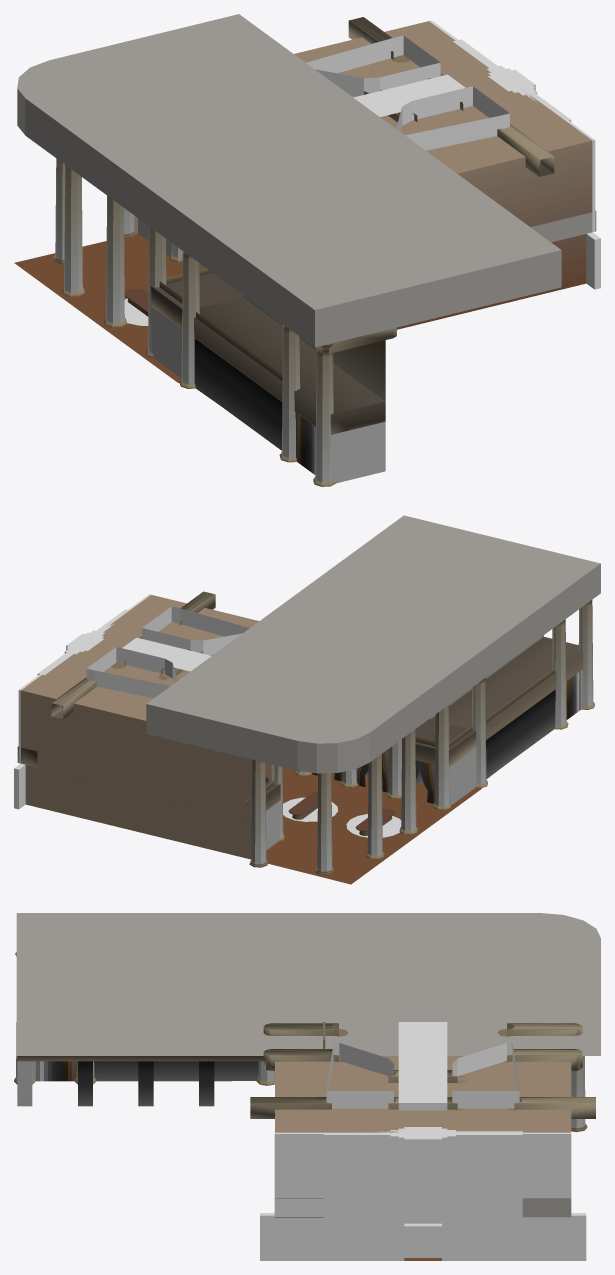
Rendered from LoungeArea.fbx.
The picture shows the model from 3 angles, top to bottom: view 1: azimuth 30°, elevation 25°; view 2: azimuth 150°, elevation 25°; view 3: azimuth 270°, elevation 25°; orthographic projection. The views are drawn at different scales.
Visible parts, largest first — view 1: Plane.011, Plane.016, Cylinder.078, Cube.002, Pilars, Cylinder.001, Pilars.003, Pilars.004, Cube.006, ShutterClosed, Pilars.006, Cube.007; view 2: Plane.011, Plane.016, Cylinder.078, Pilars, Cylinder.001, Cube.002, Pilars.003, Pilars.005, Pilars.006, Pilars.004, Cube.006, Circle (+3 smaller); view 3: Plane.011, ShutterClosed, Plane.016, Cube.007, Cylinder.078, Pilars.004, Cube.002, Cube.009, Cube.006, Cylinder.001, ShutterOpen, Pilars (+1 smaller).
Boxes of the visible parts, x1=… form: Plane.011: x1=17, y1=14, x2=561, y2=347; Plane.016: x1=14, y1=21, x2=592, y2=382; Cylinder.078: x1=194, y1=295, x2=385, y2=483; Cube.002: x1=306, y1=35, x2=509, y2=150; Pilars: x1=146, y1=226, x2=336, y2=486; Cylinder.001: x1=138, y1=211, x2=596, y2=377; Pilars.003: x1=62, y1=165, x2=126, y2=327; Pilars.004: x1=329, y1=17, x2=554, y2=353; Cube.006: x1=353, y1=74, x2=465, y2=116; ShutterClosed: x1=429, y1=20, x2=595, y2=232; Pilars.006: x1=53, y1=158, x2=64, y2=263; Cube.007: x1=488, y1=72, x2=600, y2=289; Plane.011: x1=146, y1=515, x2=600, y2=773; Plane.016: x1=21, y1=594, x2=481, y2=884; Cylinder.078: x1=430, y1=635, x2=583, y2=779; Pilars: x1=294, y1=600, x2=594, y2=810; Cylinder.001: x1=17, y1=719, x2=476, y2=849; Cube.002: x1=86, y1=606, x2=249, y2=698; Pilars.003: x1=366, y1=729, x2=417, y2=859; Pilars.005: x1=249, y1=759, x2=268, y2=867; Pilars.006: x1=315, y1=773, x2=333, y2=874; Pilars.004: x1=51, y1=591, x2=215, y2=719; Cube.006: x1=122, y1=637, x2=211, y2=671; Circle: x1=283, y1=797, x2=401, y2=837; Plane.011: x1=16, y1=913, x2=600, y2=1055; ShutterClosed: x1=274, y1=1130, x2=571, y2=1219; Plane.016: x1=275, y1=1056, x2=571, y2=1260; Cube.007: x1=260, y1=1127, x2=586, y2=1260; Cylinder.078: x1=17, y1=1056, x2=263, y2=1106; Pilars.004: x1=250, y1=1023, x2=595, y2=1118; Cube.002: x1=326, y1=1043, x2=519, y2=1108; Cube.009: x1=398, y1=1132, x2=447, y2=1222; Cube.006: x1=398, y1=1022, x2=447, y2=1110; Cylinder.001: x1=275, y1=1022, x2=577, y2=1217; ShutterOpen: x1=387, y1=1131, x2=459, y2=1217; Pilars: x1=14, y1=952, x2=348, y2=1085.
Bounding box in the file's own units: 10518 × 4378 × 13566.
